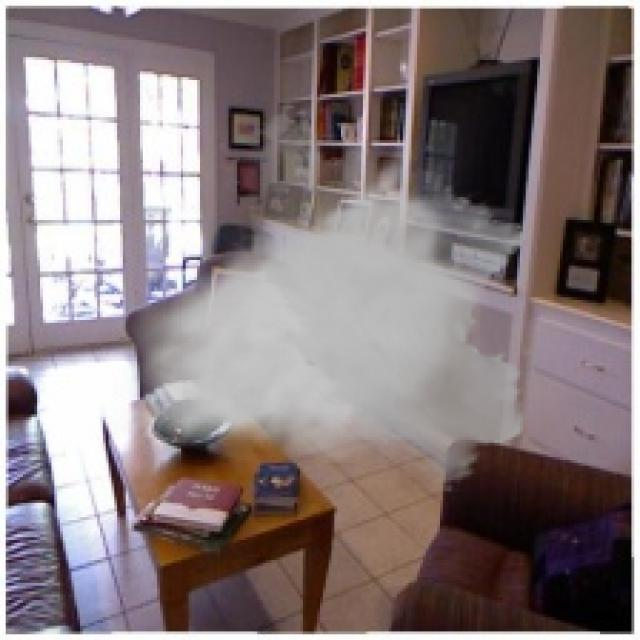Smoke: (112, 100, 537, 494)
